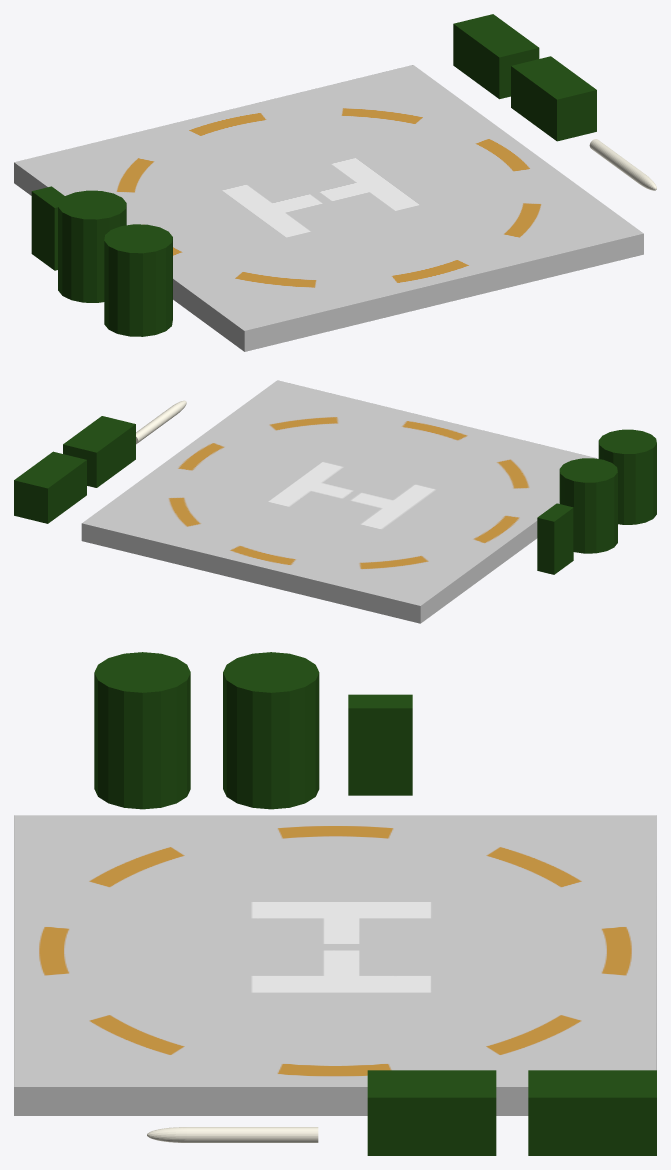
File: landing_port_supply_station.glb
The picture shows the model from 3 angles, top to bottom: view 1: azimuth 30°, elevation 25°; view 2: azimuth 150°, elevation 25°; view 3: azimuth 270°, elevation 25°; orthographic projection. The views are drawn at different scales.
Parts seen in each view (by area): view 1: base, Zylinder.001, Zylinder, Würfel.001, Würfel.002, Würfel, Kugel.002; view 2: base, Zylinder, Zylinder.001, Würfel.002, Würfel.001, Würfel, Kugel.002; view 3: base, Zylinder.001, Zylinder, Würfel.001, Würfel.002, Würfel, Kugel.002.
Part boxes in pixels (bbox=[...]): base: bbox=[14, 65, 643, 351]; Zylinder.001: bbox=[104, 224, 172, 336]; Zylinder: bbox=[58, 190, 126, 302]; Würfel.001: bbox=[511, 56, 596, 141]; Würfel.002: bbox=[453, 14, 539, 99]; Würfel: bbox=[31, 186, 64, 270]; Kugel.002: bbox=[589, 139, 656, 190]; base: bbox=[81, 380, 598, 623]; Zylinder: bbox=[559, 458, 617, 553]; Zylinder.001: bbox=[598, 429, 656, 524]; Würfel.002: bbox=[14, 451, 86, 523]; Würfel.001: bbox=[63, 416, 135, 487]; Würfel: bbox=[537, 503, 573, 574]; Kugel.002: bbox=[136, 400, 186, 444]; base: bbox=[14, 815, 656, 1115]; Zylinder.001: bbox=[94, 652, 190, 809]; Zylinder: bbox=[223, 652, 319, 809]; Würfel.001: bbox=[367, 1070, 496, 1155]; Würfel.002: bbox=[528, 1070, 656, 1155]; Würfel: bbox=[348, 694, 412, 795]; Kugel.002: bbox=[147, 1127, 318, 1142].
Bounding box in the file's own units: 1.42 × 0.225 × 1.
Materials: 3 (1 with a texture image).
